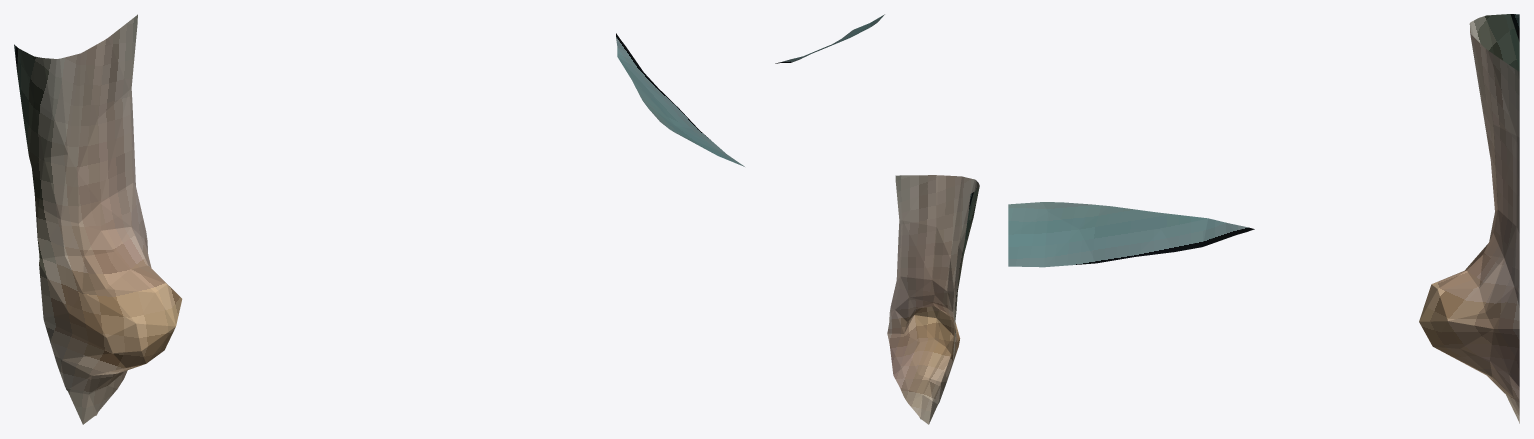
3 renders of one model, left to right at view 1: azimuth 30°, elevation 25°; view 2: azimuth 150°, elevation 25°; view 3: azimuth 270°, elevation 25°, orthographic. The views are drawn at different scales.
Size of the model in its own units: 42.67 by 34.97 by 42.87.
Materials: 1 (1 with a texture image).
